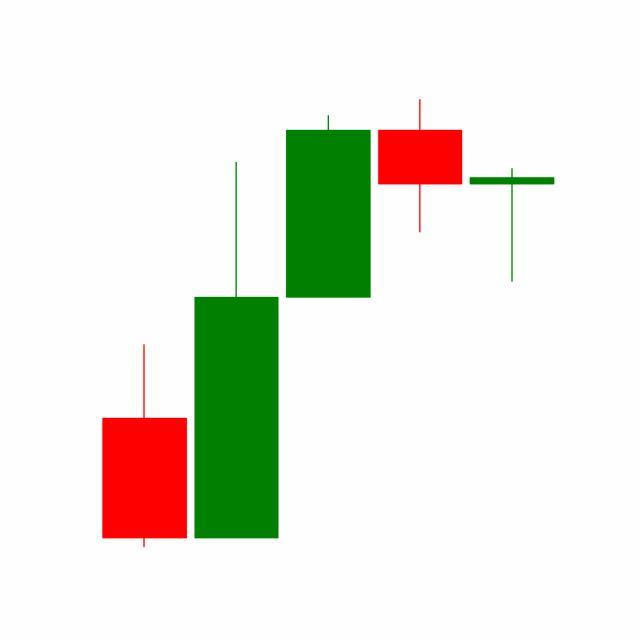Dragonfly Doji: (466, 167, 559, 284)
